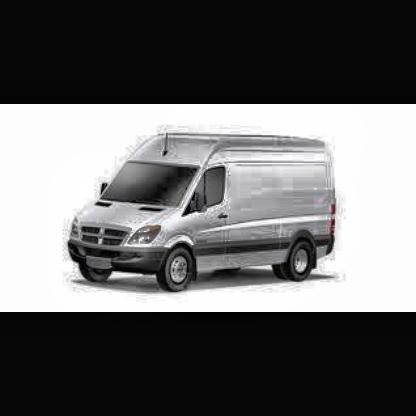Dodge Sprinter Cargo Van 2009: (67, 136, 339, 296)
